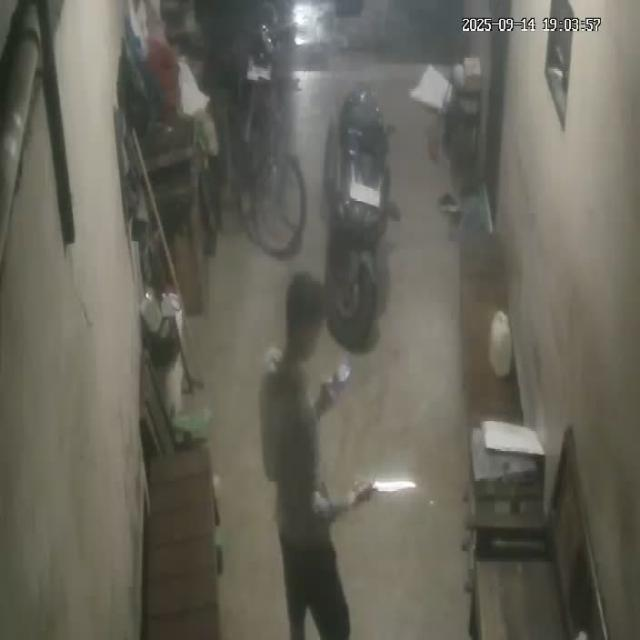senjata_tajam: (372, 475, 418, 495)
